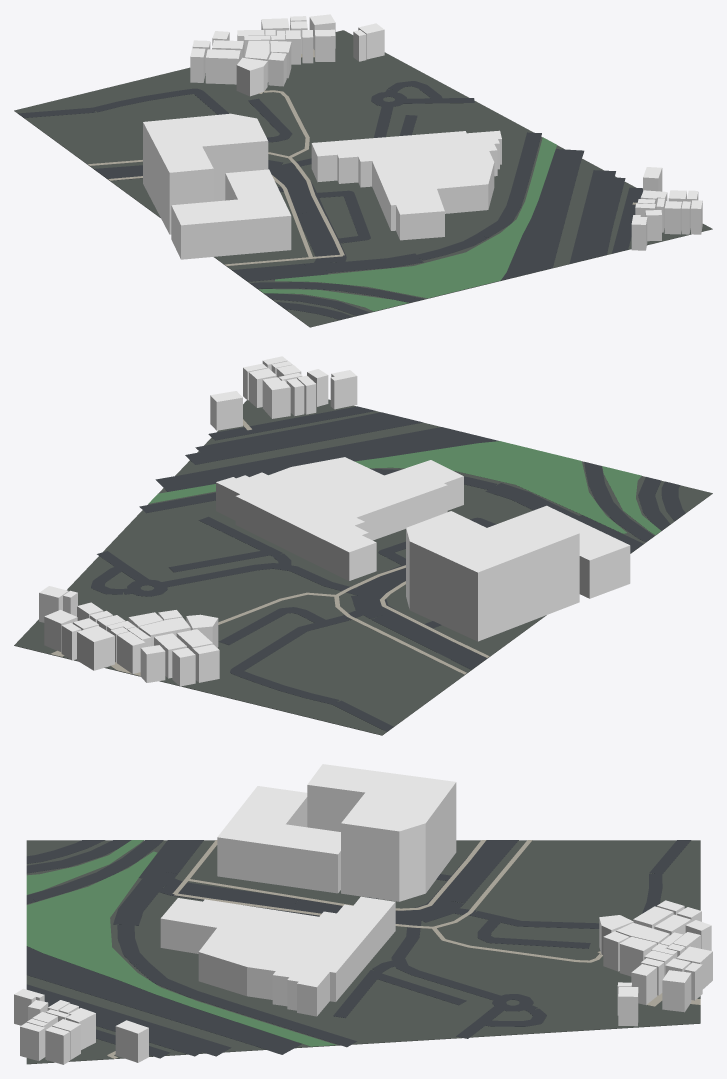
The model's file is tile_008_007.glb.
The picture shows the model from 3 angles, top to bottom: view 1: azimuth 30°, elevation 25°; view 2: azimuth 150°, elevation 25°; view 3: azimuth 270°, elevation 25°; orthographic projection. The views are drawn at different scales.
Visible parts, largest first — view 1: tile_008_007_buildings_neutral, tile_008_007_ground, tile_008_007_roads, tile_008_007_open_spaces, tile_008_007_paths; view 2: tile_008_007_buildings_neutral, tile_008_007_ground, tile_008_007_roads, tile_008_007_open_spaces, tile_008_007_paths; view 3: tile_008_007_buildings_neutral, tile_008_007_ground, tile_008_007_roads, tile_008_007_open_spaces, tile_008_007_paths.
Boxes of the visible parts, box(x1,y1,x2,y2) form: tile_008_007_buildings_neutral: box(143, 14, 702, 259); tile_008_007_ground: box(14, 30, 712, 327); tile_008_007_roads: box(18, 81, 642, 319); tile_008_007_open_spaces: box(259, 137, 556, 311); tile_008_007_paths: box(88, 49, 637, 265); tile_008_007_buildings_neutral: box(39, 356, 630, 686); tile_008_007_ground: box(14, 399, 712, 735); tile_008_007_roads: box(91, 406, 685, 731); tile_008_007_open_spaces: box(148, 441, 660, 535); tile_008_007_paths: box(51, 419, 489, 675); tile_008_007_buildings_neutral: box(14, 764, 712, 1064); tile_008_007_ground: box(26, 840, 700, 1064); tile_008_007_roads: box(26, 840, 690, 1058); tile_008_007_open_spaces: box(26, 840, 336, 1046); tile_008_007_paths: box(107, 840, 700, 1058).
Size of the model in its own units: 211 by 28.96 by 259.
